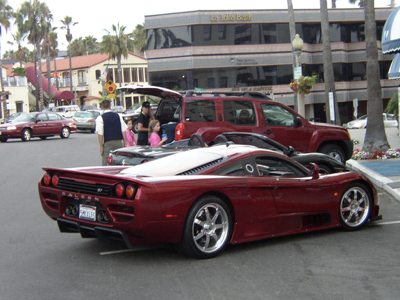licence: (77, 204, 101, 225)
